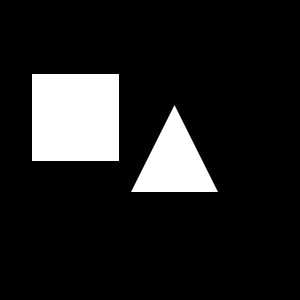circle: (32, 74, 119, 161)
triangle: (131, 105, 218, 192)
